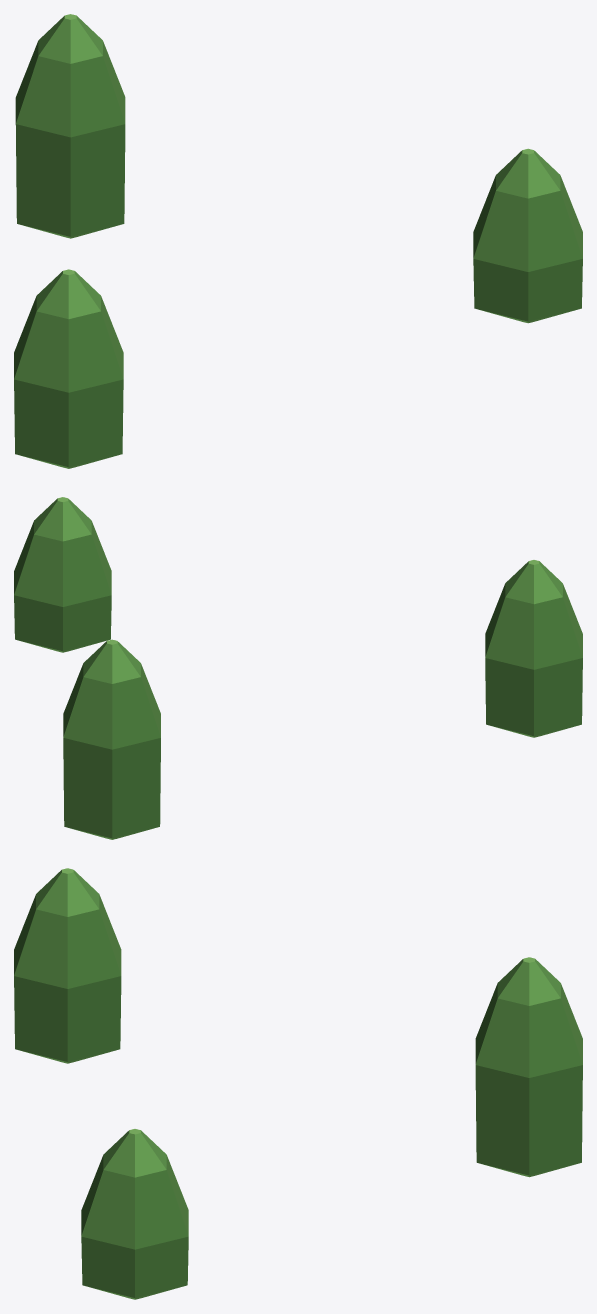
Rendered from cactus-2.glb.
The picture shows the model from 3 angles, top to bottom: view 1: azimuth 30°, elevation 25°; view 2: azimuth 150°, elevation 25°; view 3: azimuth 270°, elevation 25°; orthographic projection. The views are drawn at different scales.
Parts seen in each view (by area): view 1: cactus-2; view 2: cactus-2; view 3: cactus-2.
Boxes of the visible parts, x1,y1,x2,y2 form: cactus-2: [14, 14, 582, 468]; cactus-2: [14, 497, 582, 839]; cactus-2: [14, 868, 582, 1299].
Bounding box in the file's own units: 0.5051 × 0.175 × 0.421.
1 material, 1 textured.
